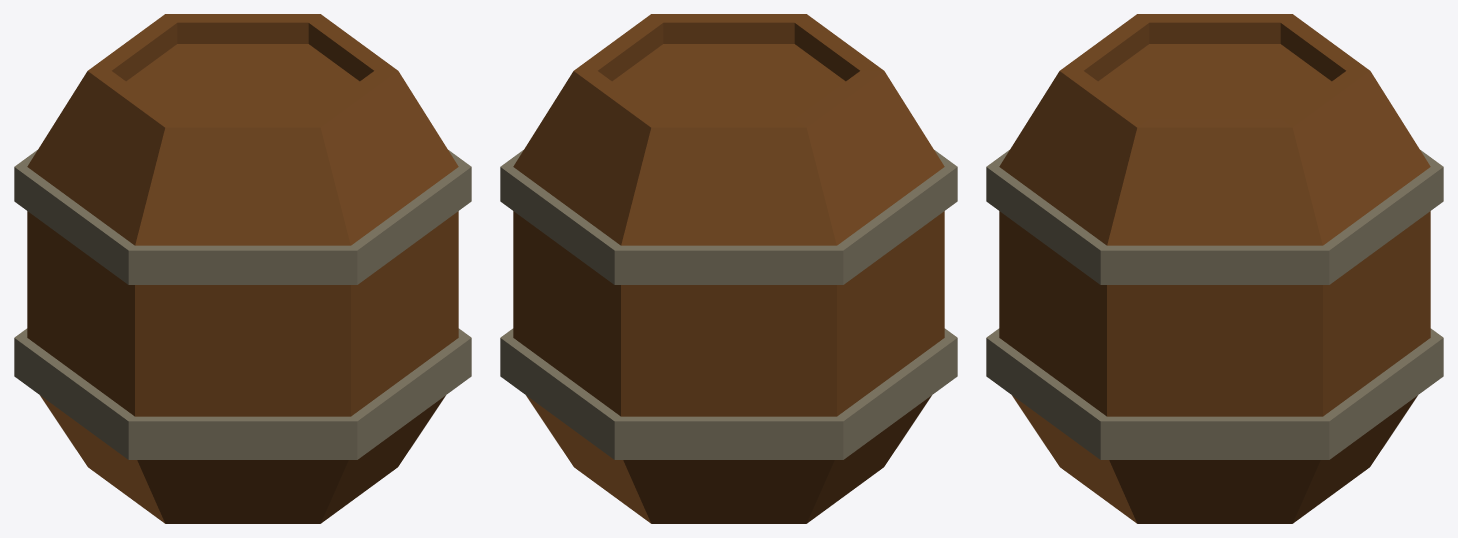
File: Barrel.fbx
3 renders of one model, left to right at view 1: azimuth 30°, elevation 25°; view 2: azimuth 150°, elevation 25°; view 3: azimuth 270°, elevation 25°, orthographic.
Visible parts, largest first — view 1: Circle; view 2: Circle; view 3: Circle.
Boxes of the visible parts, x1,y1,x2,y2 form: Circle: (14,14,471,523); Circle: (500,14,957,523); Circle: (986,14,1443,523).
Size of the model in its own units: 492 by 544 by 568.
